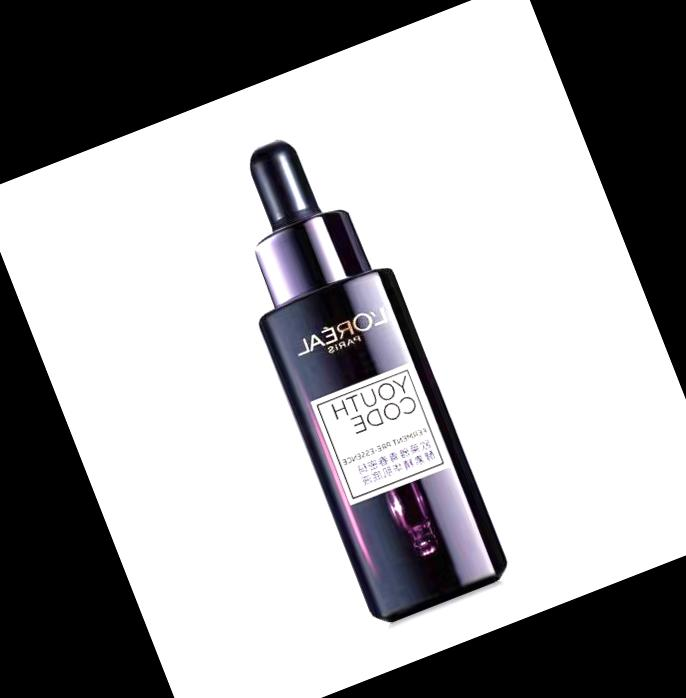cosmetic: (200, 118, 510, 626)
